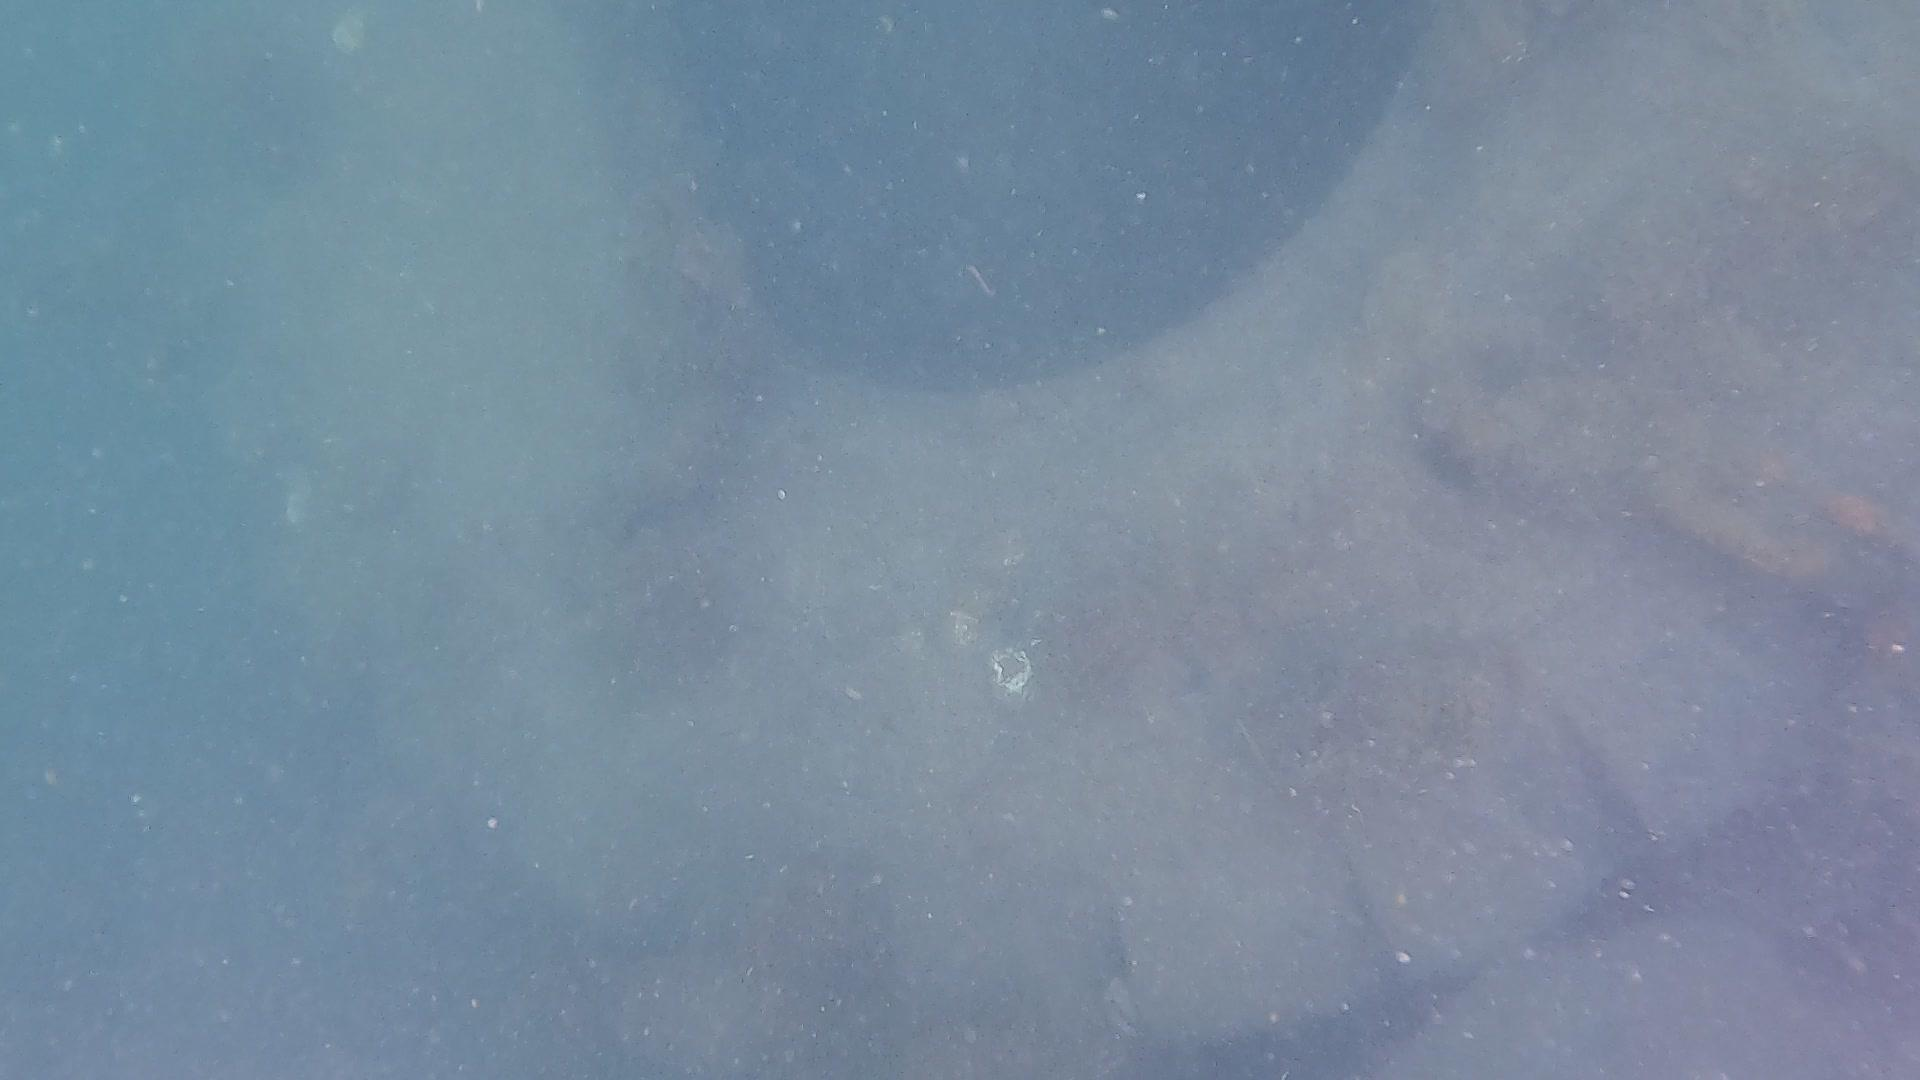tire: (276, 0, 1920, 1080)
